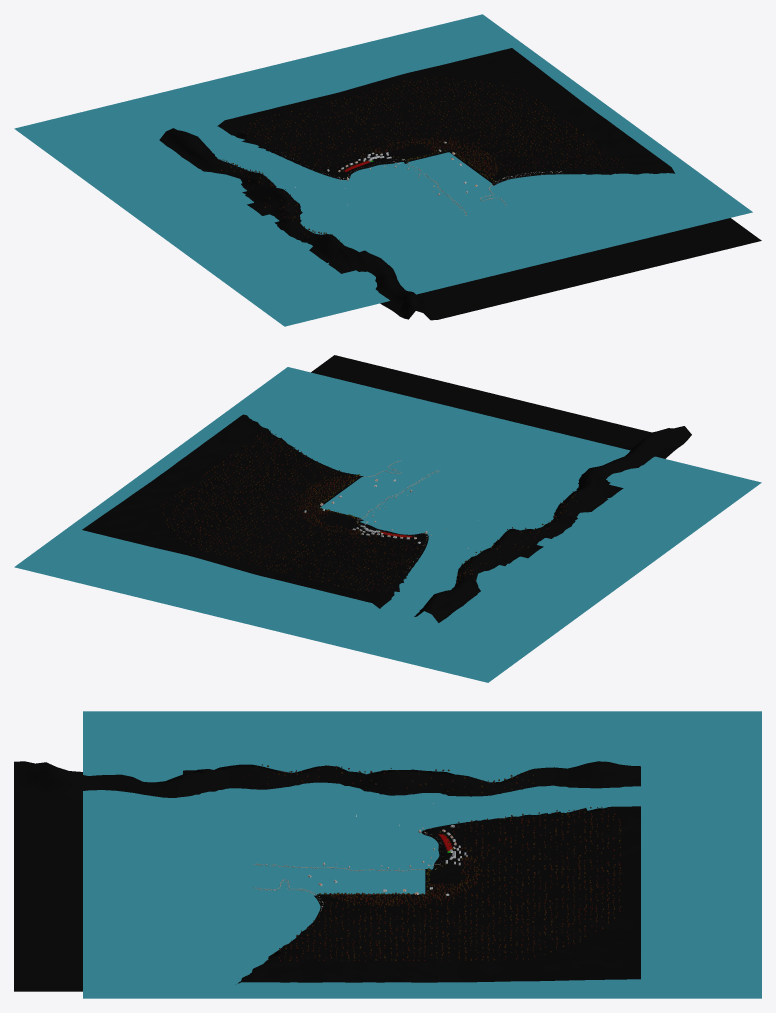
File: PebbleBeach_Scenery.fbx
3 renders of one model, top to bottom at view 1: azimuth 30°, elevation 25°; view 2: azimuth 150°, elevation 25°; view 3: azimuth 270°, elevation 25°, orthographic. The views are drawn at different scales.
Visible parts, largest first — view 1: PB_Ocean, PB_Terrain, PB_Forest; view 2: PB_Ocean, PB_Terrain, PB_Forest; view 3: PB_Ocean, PB_Terrain, PB_Forest.
Boxes of the visible parts, x1,y1,x2,y2 form: PB_Ocean: [14, 14, 752, 326]; PB_Terrain: [159, 48, 761, 320]; PB_Forest: [220, 77, 622, 242]; PB_Ocean: [14, 367, 761, 682]; PB_Terrain: [82, 355, 691, 622]; PB_Forest: [160, 430, 576, 591]; PB_Ocean: [83, 711, 761, 998]; PB_Terrain: [14, 761, 640, 991]; PB_Forest: [243, 764, 621, 961].
Size of the model in its own units: 3800 by 146 by 4185.
